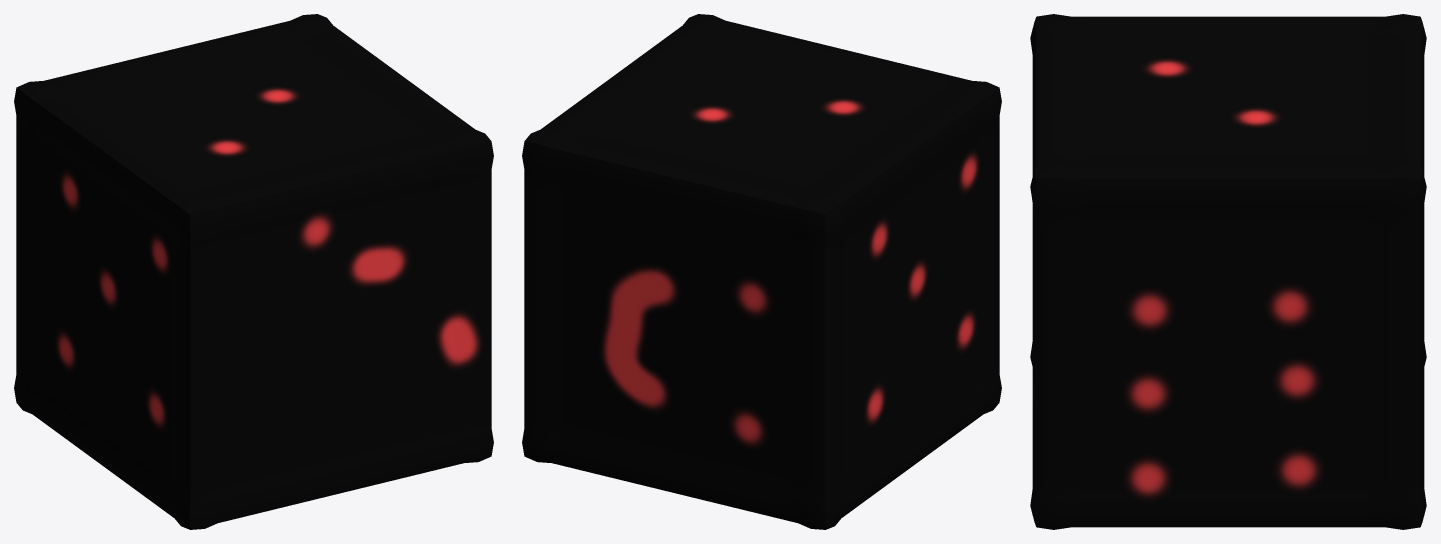
File: tri_cool_cube.glb
The picture shows the model from 3 angles, left to right: view 1: azimuth 30°, elevation 25°; view 2: azimuth 150°, elevation 25°; view 3: azimuth 270°, elevation 25°; orthographic projection. The views are drawn at different scales.
Visible parts, largest first — view 1: Cube_Cube.001; view 2: Cube_Cube.001; view 3: Cube_Cube.001.
Part boxes in pixels (x1,y1,x2,y2): Cube_Cube.001: [14, 14, 493, 529]; Cube_Cube.001: [522, 14, 1001, 529]; Cube_Cube.001: [1030, 14, 1426, 529].
Size of the model in its own units: 2.06 by 2.06 by 2.06.
Materials: 1 (1 with a texture image).
